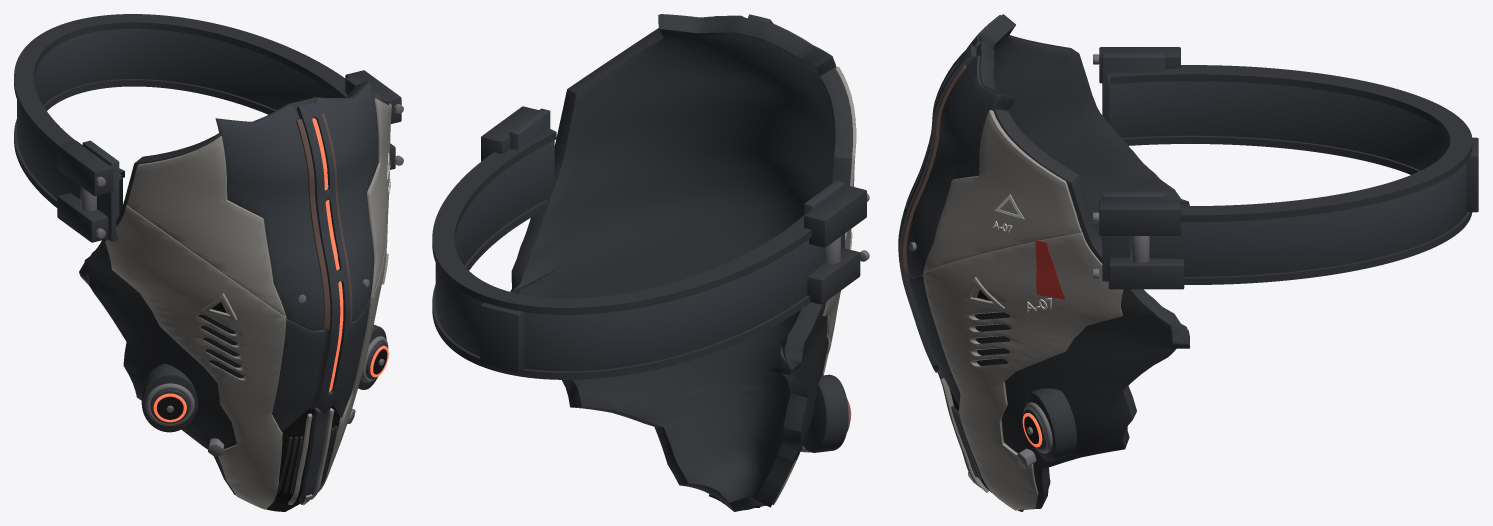
The model's file is enemy_demo_mask.fbx.
The picture shows the model from 3 angles, left to right: view 1: azimuth 30°, elevation 25°; view 2: azimuth 150°, elevation 25°; view 3: azimuth 270°, elevation 25°; orthographic projection. The views are drawn at different scales.
Parts seen in each view (by area): view 1: Light_Lower_L, Rear_Band, Dark_Upper_L, Light_Upper_L, Base_Shell, Rear_Flange1, Dark_Upper_R, Spine_Frame, Dark_Lower_L, Light_Upper_R, Rear_Flange0, Hinge_Block_Top_L (+14 smaller); view 2: Base_Shell, Rear_Band, Rear_Flange1, Rear_Flange0, Rear_Latch, Pod_Housing_L, Hinge_Block_Top_L, Hinge_Block_Bot_L, Hinge_Block_Top_R, Hinge_Plate_R, Light_Lower_L, Hinge_Plate_L (+1 smaller); view 3: Rear_Band, Base_Shell, Light_Lower_R, Light_Upper_R, Rear_Flange1, Dark_Upper_R, Rear_Flange0, Hinge_Block_Top_R, Hinge_Block_Bot_R, Spine_Frame, Pod_Housing_R, Hinge_Plate_L (+6 smaller).
Part boxes in pixels (x1,y1,x2,y2): Light_Lower_L: (105,205,286,509); Rear_Band: (17,28,338,214); Dark_Upper_L: (217,105,323,330); Light_Upper_L: (127,136,285,316); Base_Shell: (79,81,389,495); Rear_Flange1: (14,14,347,179); Dark_Upper_R: (314,82,378,321); Spine_Frame: (296,102,350,413); Dark_Lower_L: (272,318,325,431); Light_Upper_R: (367,98,391,295); Rear_Flange0: (14,79,276,239); Hinge_Block_Top_L: (57,140,113,196); Base_Shell: (510,14,852,511); Rear_Band: (435,140,823,371); Rear_Flange1: (432,128,811,314); Rear_Flange0: (432,200,810,379); Rear_Latch: (480,302,524,372); Pod_Housing_L: (803,374,848,452); Hinge_Block_Top_L: (804,185,866,247); Hinge_Block_Bot_L: (807,248,860,304); Hinge_Block_Top_R: (481,106,538,161); Hinge_Plate_R: (509,108,550,149); Light_Lower_L: (772,229,851,504); Hinge_Plate_L: (804,180,844,248); Rear_Band: (1107,76,1466,276); Base_Shell: (975,14,1189,510); Light_Lower_R: (923,232,1123,510); Light_Upper_R: (923,110,1081,273); Rear_Flange1: (1107,65,1472,222); Dark_Upper_R: (906,55,1001,278); Rear_Flange0: (1105,135,1472,284); Hinge_Block_Top_R: (1099,200,1180,235); Hinge_Block_Bot_R: (1108,257,1184,289); Spine_Frame: (898,44,976,372); Pod_Housing_R: (1025,388,1076,461); Hinge_Plate_L: (1102,53,1165,123).
Bounding box in the file's own units: 26.96 × 35.6 × 40.55.
